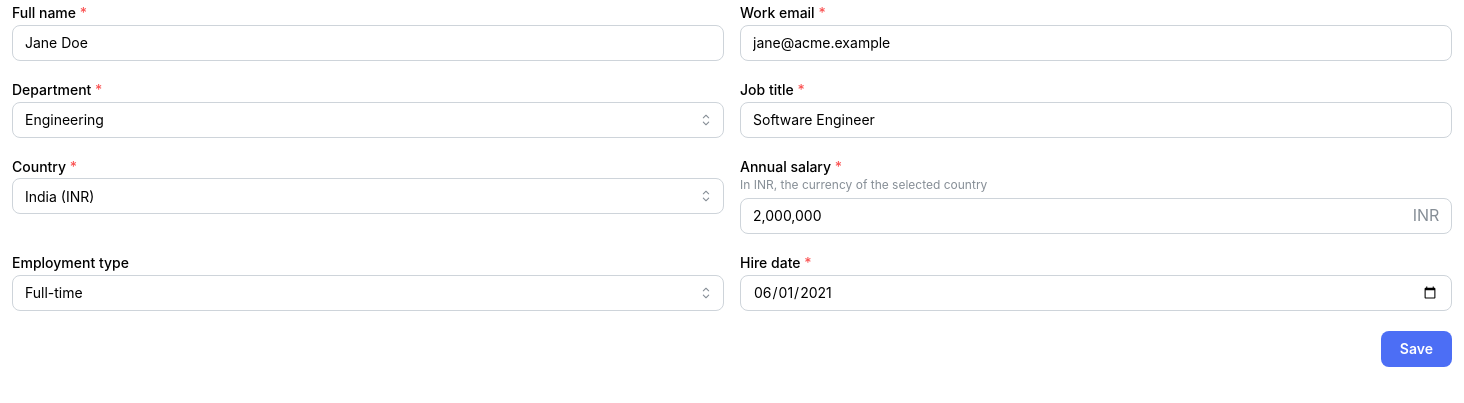
Test: EmployeeForm › maps server validation errors onto fields
Click the button "Save".
click(1416, 349)  # box x1=1381 y1=331 x2=1452 y2=367
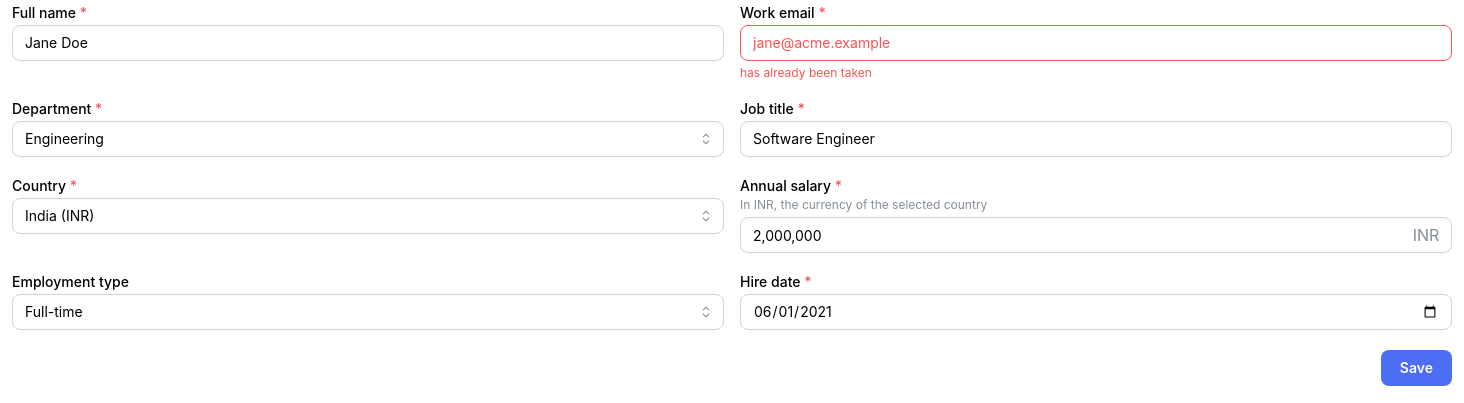
Now the text "has already been taken" is shown, box x1=740 y1=65 x2=872 y2=80
